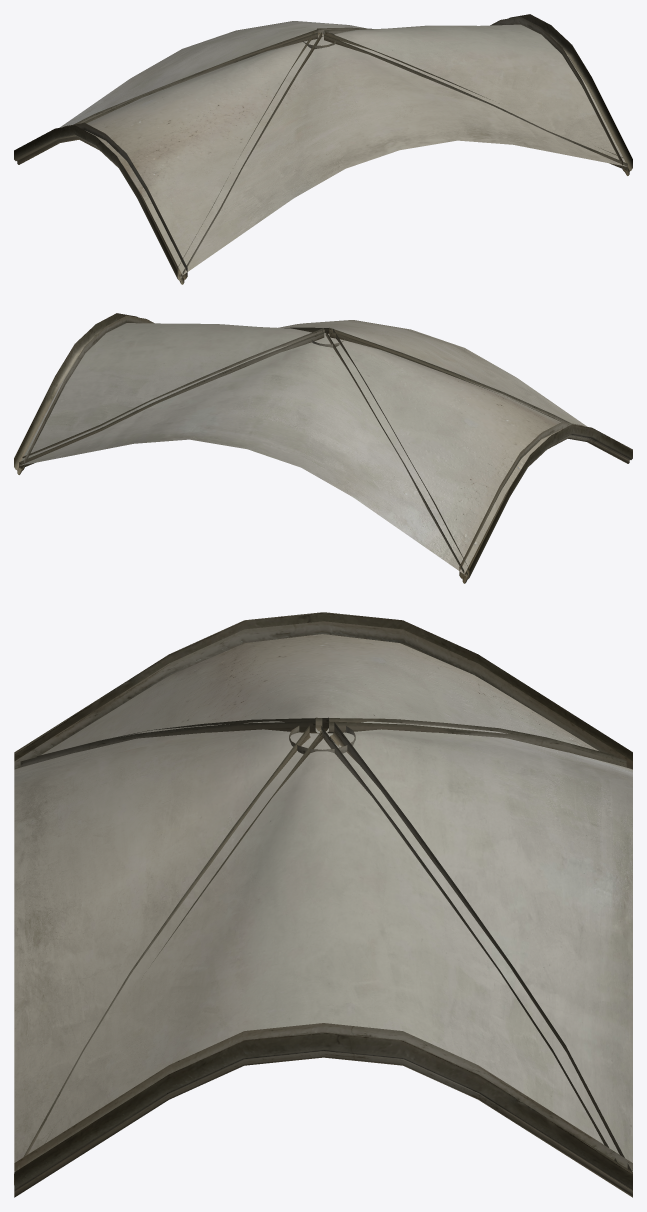
Rendered from sm_Ceiling_01_01.fbx.
3 renders of one model, top to bottom at view 1: azimuth 30°, elevation 25°; view 2: azimuth 150°, elevation 25°; view 3: azimuth 270°, elevation 25°, orthographic. The views are drawn at different scales.
Parts seen in each view (by area): view 1: sm_Ceiling_01_01_LOD0; view 2: sm_Ceiling_01_01_LOD0; view 3: sm_Ceiling_01_01_LOD0.
Boxes of the visible parts, x1,y1,x2,y2 form: sm_Ceiling_01_01_LOD0: (14, 14, 632, 284); sm_Ceiling_01_01_LOD0: (14, 313, 632, 583); sm_Ceiling_01_01_LOD0: (14, 612, 632, 1197).
Bounding box in the file's own units: 675 × 420 × 200.
